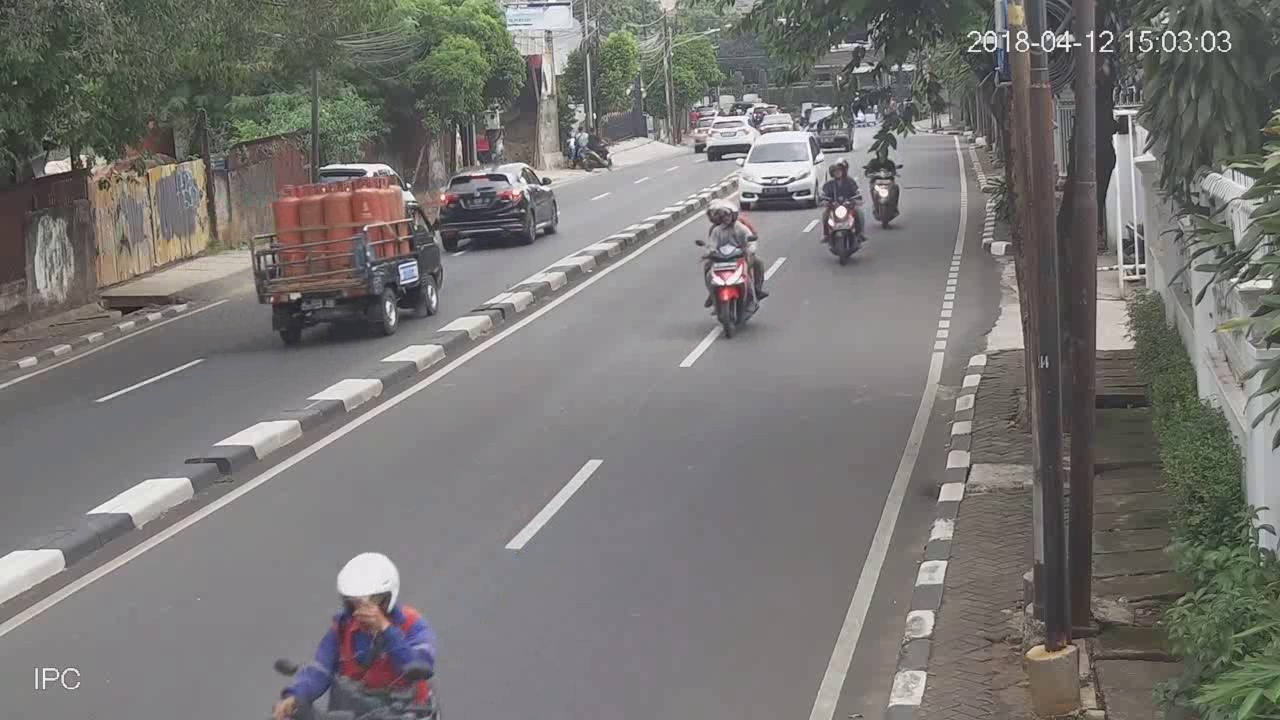car: (441, 159, 561, 245), (741, 141, 819, 209)
motorcycle: (699, 199, 773, 343), (820, 157, 872, 270), (866, 147, 904, 232)
truck: (246, 176, 443, 337)
